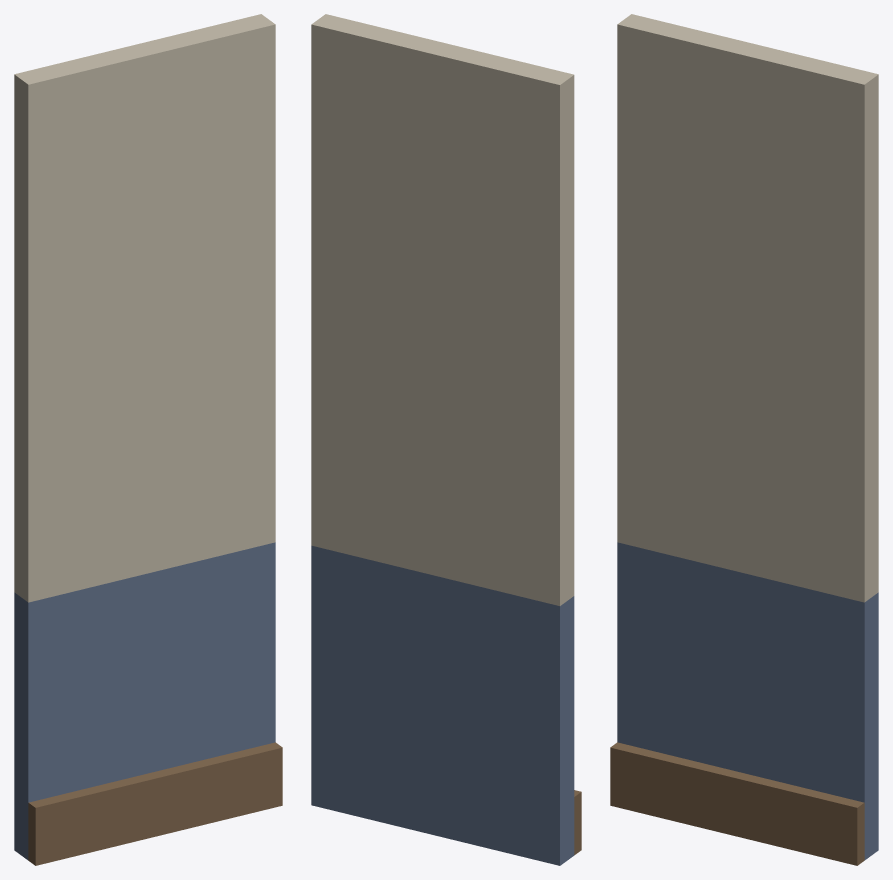
File: Mesh_WallBaseboard2Colors_F1.fbx
The picture shows the model from 3 angles, left to right: view 1: azimuth 30°, elevation 25°; view 2: azimuth 150°, elevation 25°; view 3: azimuth 330°, elevation 25°; orthographic projection.
Visible parts, largest first — view 1: Mesh_WallBaseboard2Colors_F1; view 2: Mesh_WallBaseboard2Colors_F1; view 3: Mesh_WallBaseboard2Colors_F1.
Part boxes in pixels (<box>): Mesh_WallBaseboard2Colors_F1: <box>14,14,282,865</box>; Mesh_WallBaseboard2Colors_F1: <box>311,14,581,865</box>; Mesh_WallBaseboard2Colors_F1: <box>610,14,878,865</box>.
Bounding box in the file's own units: 1 × 3 × 0.15.
